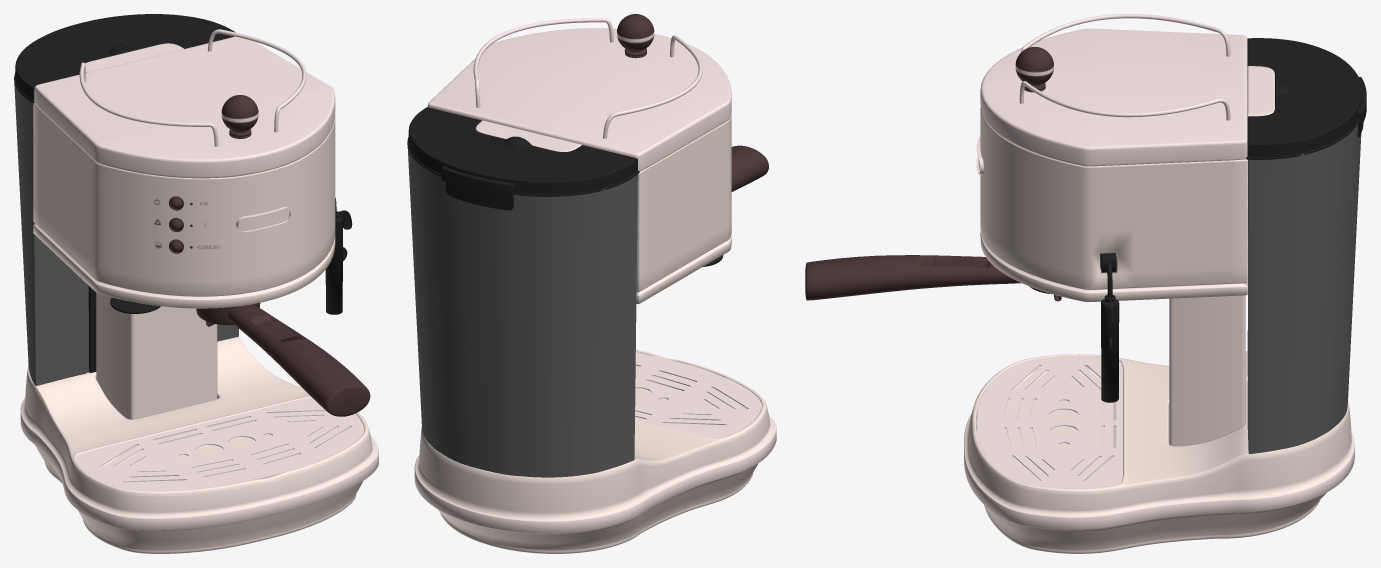
3 views of the same model, side by side, from view 1: azimuth 30°, elevation 25°; view 2: azimuth 150°, elevation 25°; view 3: azimuth 270°, elevation 25° (orthographic). The views are drawn at different scales.
Visible parts, largest first — view 1: kfj_4, touming_2; view 2: kfj_4, touming_2; view 3: kfj_4, touming_2.
Part boxes in pixels (x1,y1,x2,y2): kfj_4: (14, 14, 378, 553); touming_2: (14, 83, 238, 385); kfj_4: (407, 14, 776, 553); touming_2: (407, 147, 637, 477); kfj_4: (805, 14, 1366, 553); touming_2: (1247, 124, 1361, 453).
Size of the model in its own units: 84.05 by 117 by 134.
Materials: 2 (2 with a texture image).
